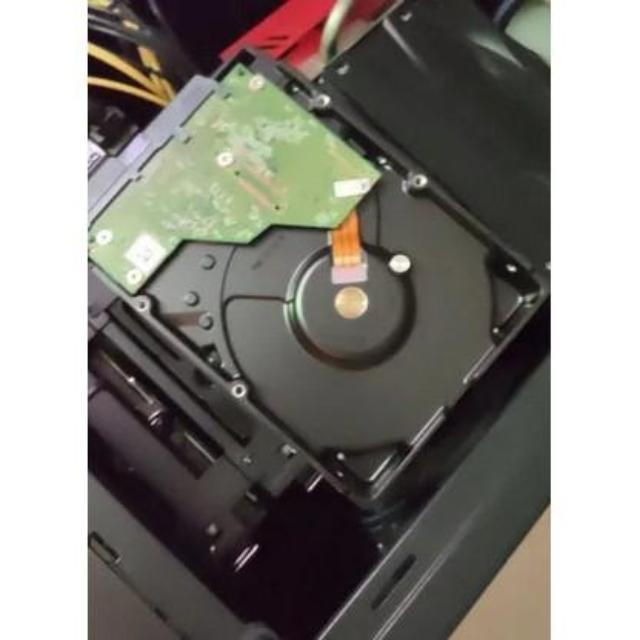DISK: (87, 43, 544, 495)
